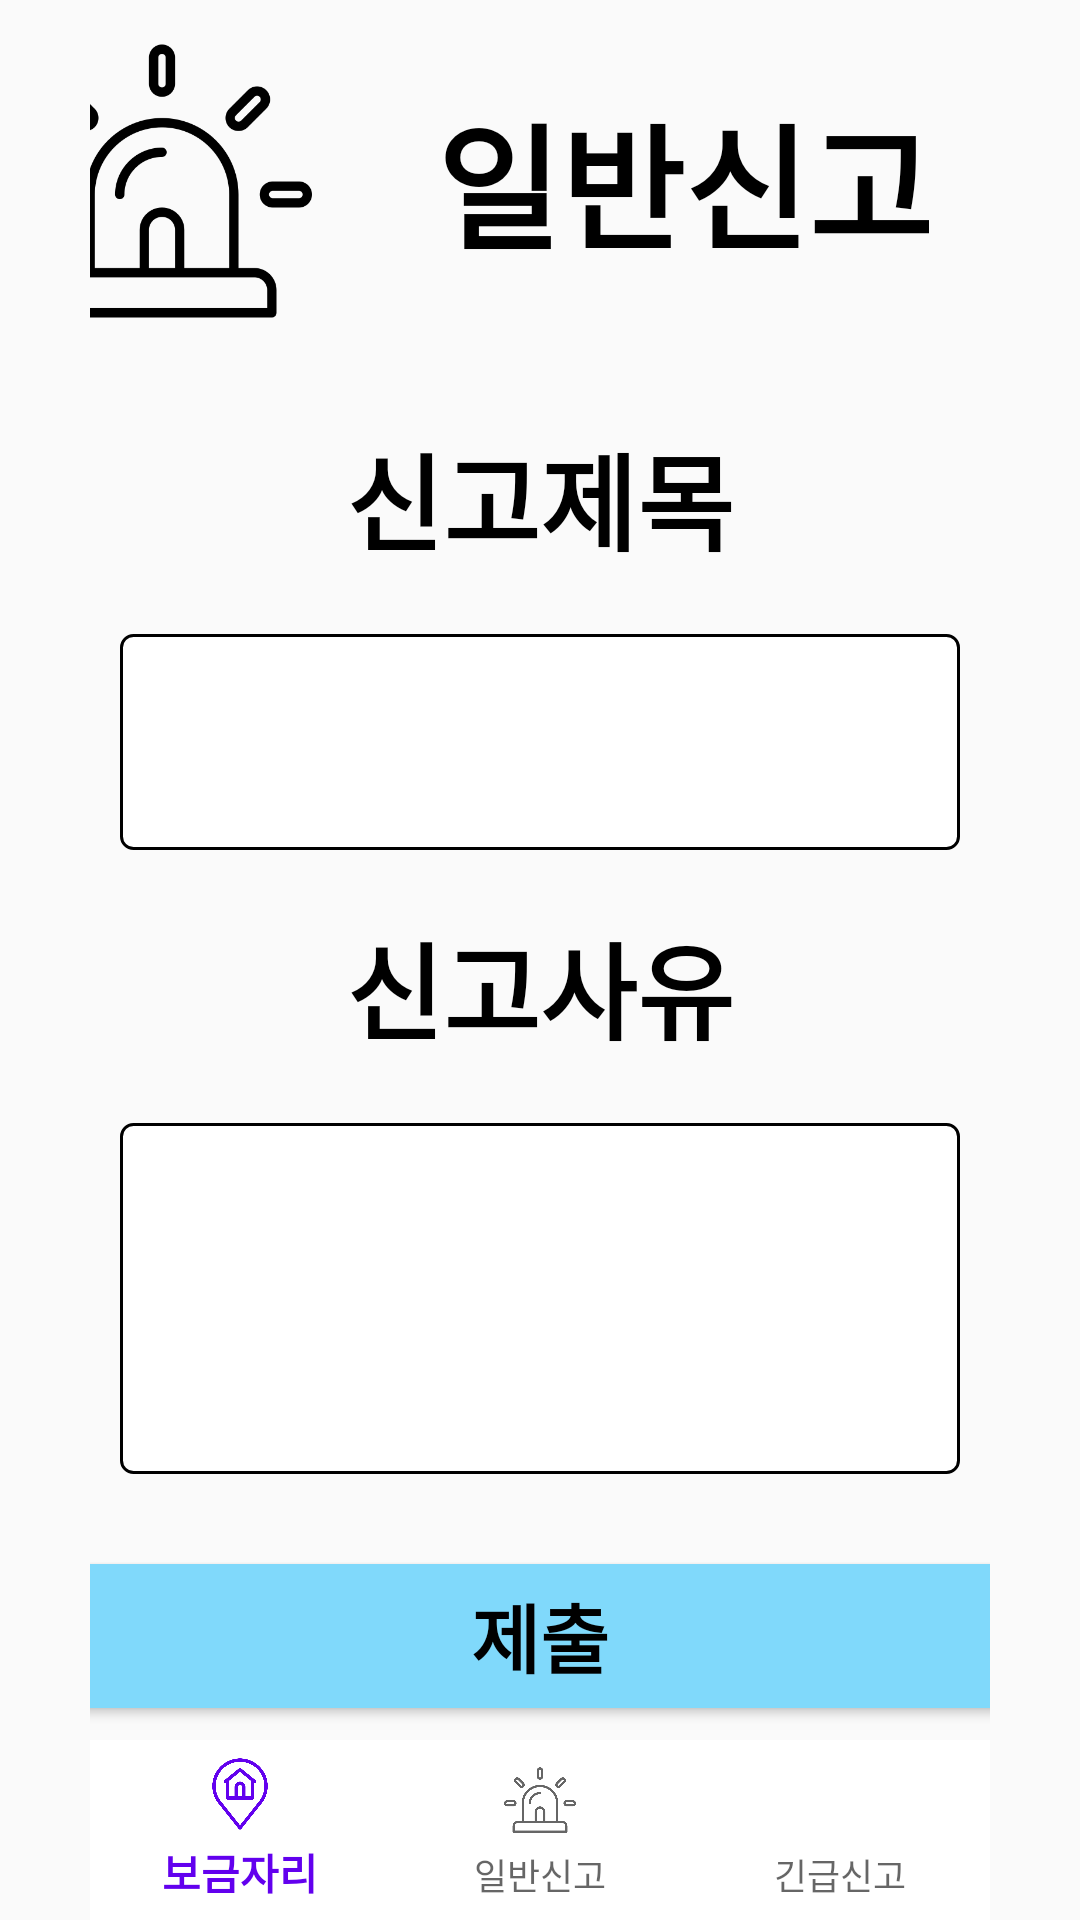

Named icons in this screenshot (1080px x 1920px) and their centers, (x,y):
notify: (201,181)
